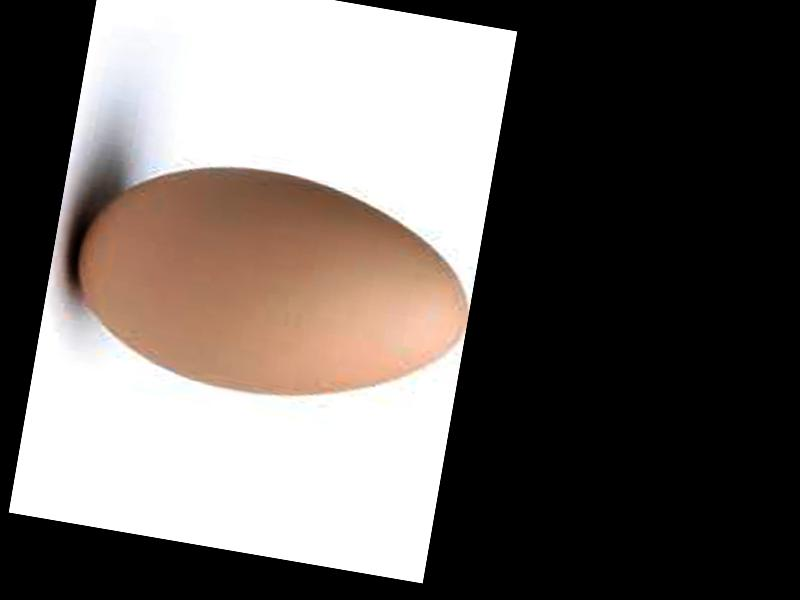Eggs: (54, 141, 484, 426)
